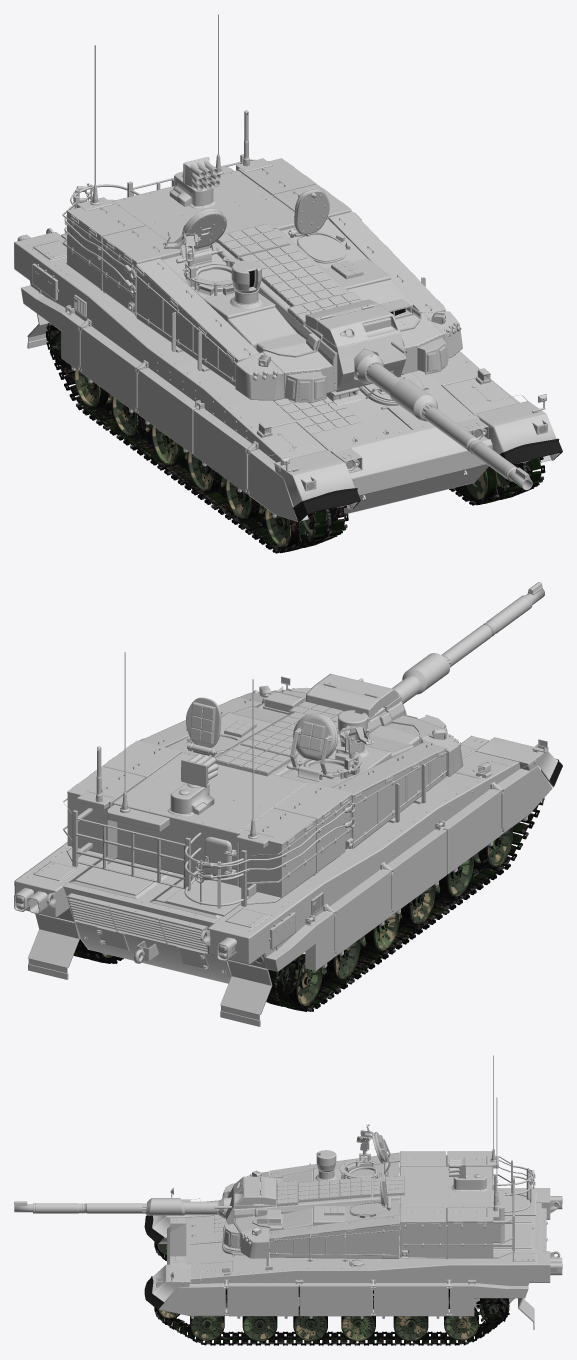
3 renders of one model, top to bottom at view 1: azimuth 30°, elevation 25°; view 2: azimuth 150°, elevation 25°; view 3: azimuth 270°, elevation 25°, orthographic. The views are drawn at different scales.
Visible parts, largest first — view 1: top, down, K2, tank_fromz001; view 2: top, down, K2; view 3: top, down, K2, tank_fromz001.
Part boxes in pixels (<box>): top: <box>61,14,532,490</box>; down: <box>14,228,559,522</box>; K2: <box>46,323,545,553</box>; tank_fromz001: <box>292,438,562,522</box>; top: <box>63,582,544,918</box>; down: <box>14,676,557,1026</box>; K2: <box>73,798,544,1011</box>; top: <box>14,1055,536,1261</box>; down: <box>152,1187,562,1329</box>; K2: <box>154,1241,509,1345</box>; tank_fromz001: <box>144,1215,166,1309</box>.
Bounding box in the file's own units: 374 × 457 × 1001.
